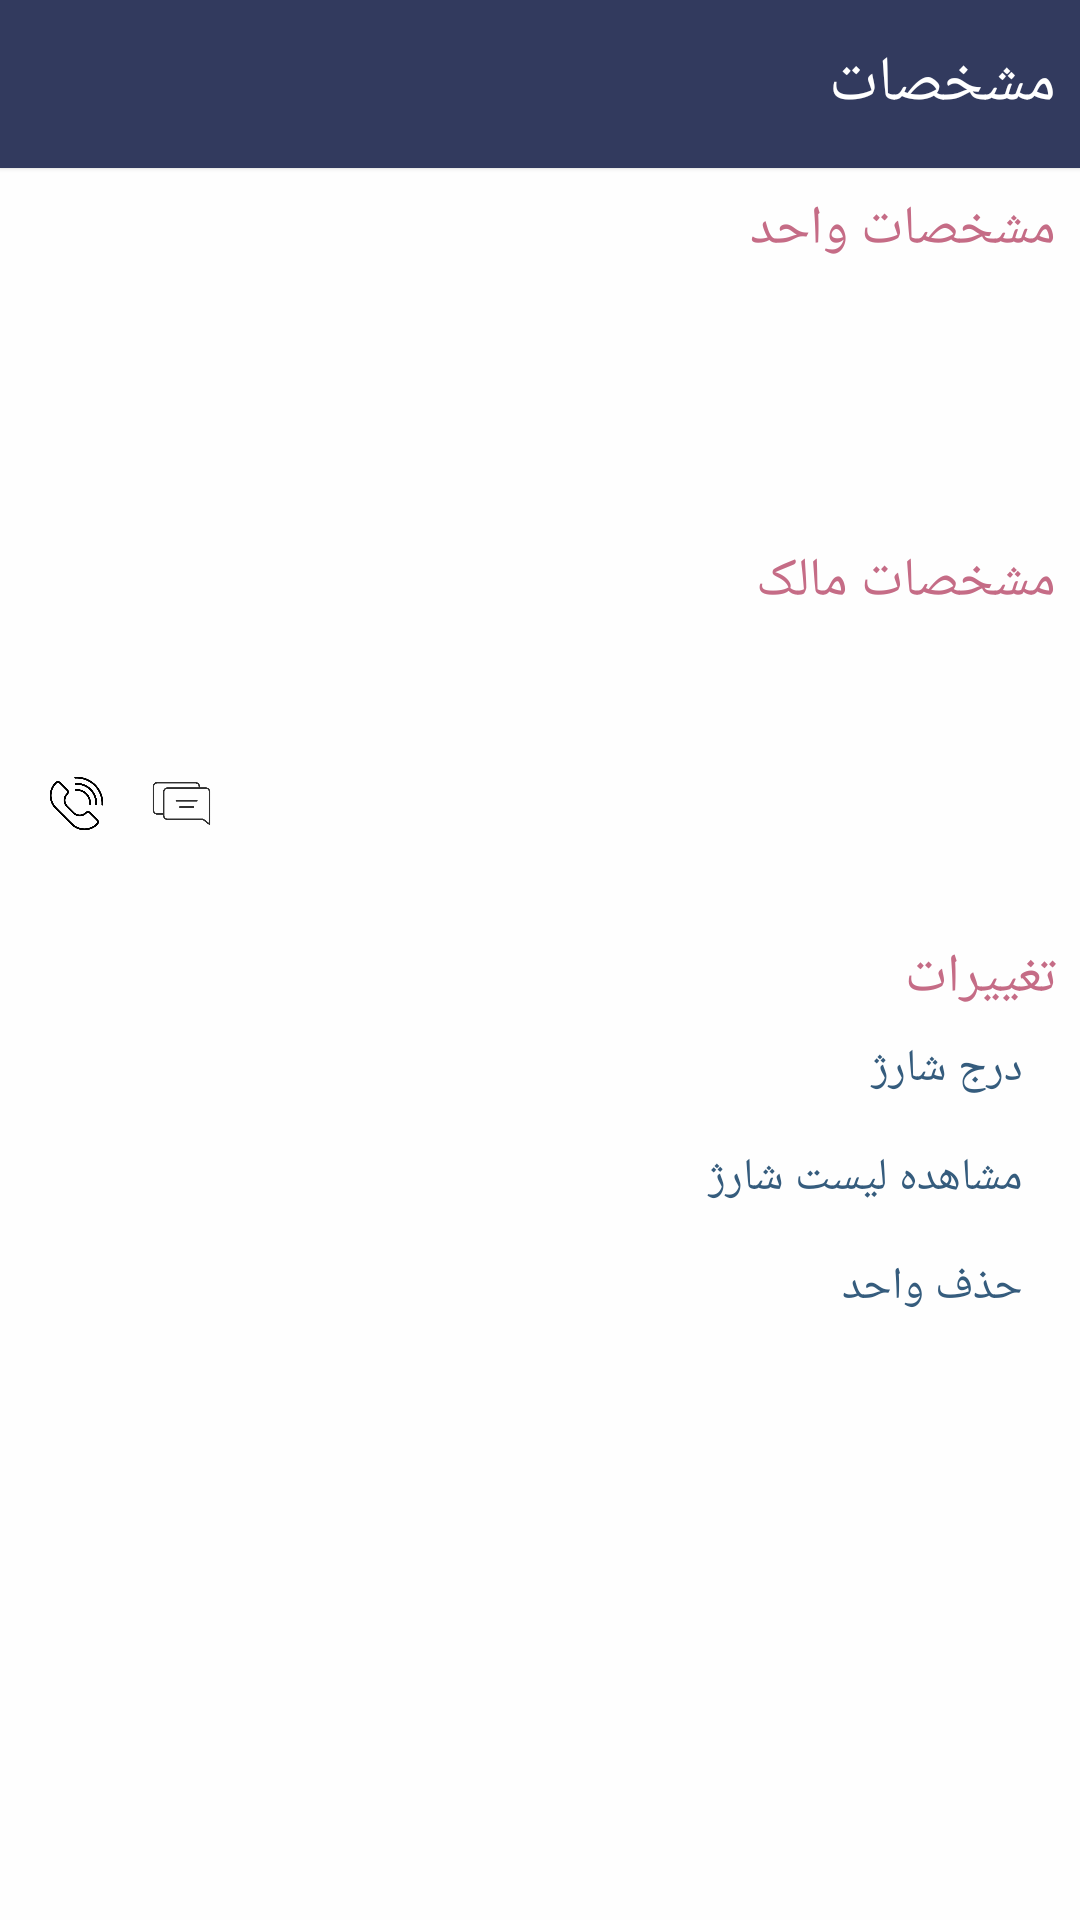

Icons on this 1080*1920 Android screen, each with its box as (x1, y1, x2, y2):
call: (50, 777, 103, 830)
message: (153, 782, 210, 825)
